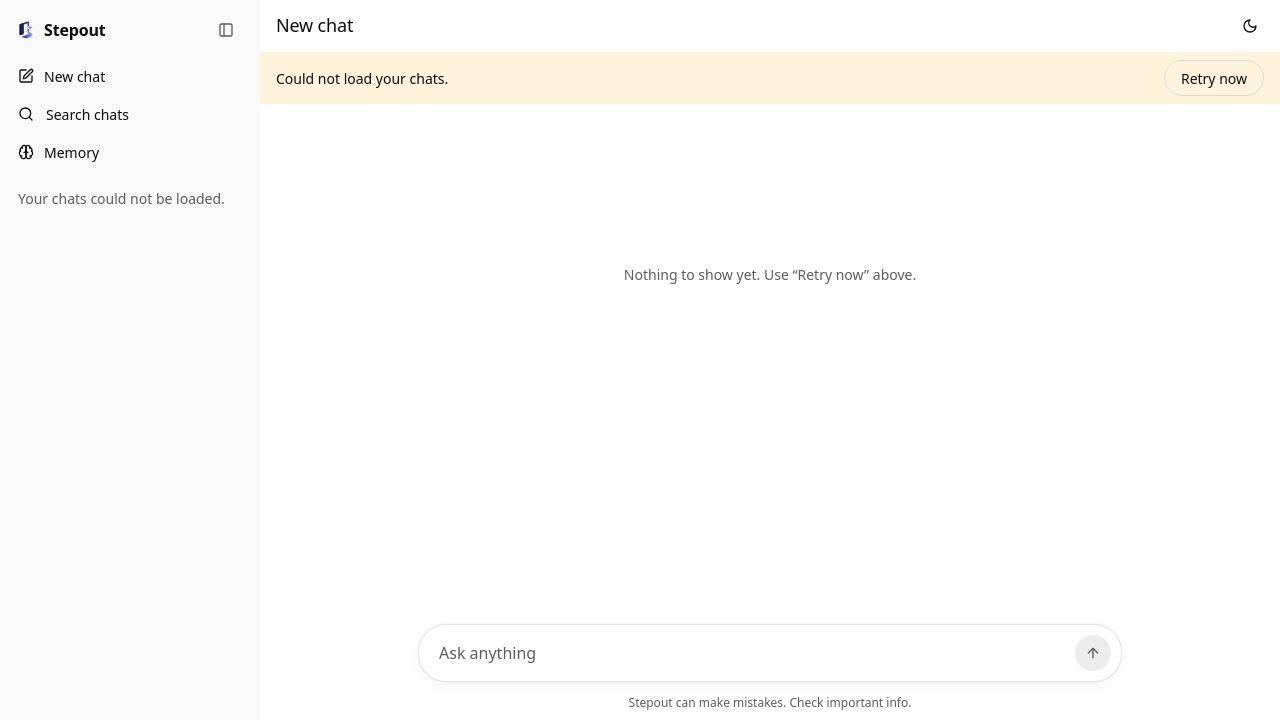
when something fails › the chat list: both places say so in words, and Retry now reads it again
Expected: the text "Your chats could not be loaded." is shown, top-left (18, 189), bottom-right (225, 208)
Expected: the text "Nothing to show yet. Use “Retry now” above." is shown, top-left (624, 265), bottom-right (916, 284)
Click the button "Retry now". click: (1214, 78)
box: top-left (1164, 60), bottom-right (1264, 96)
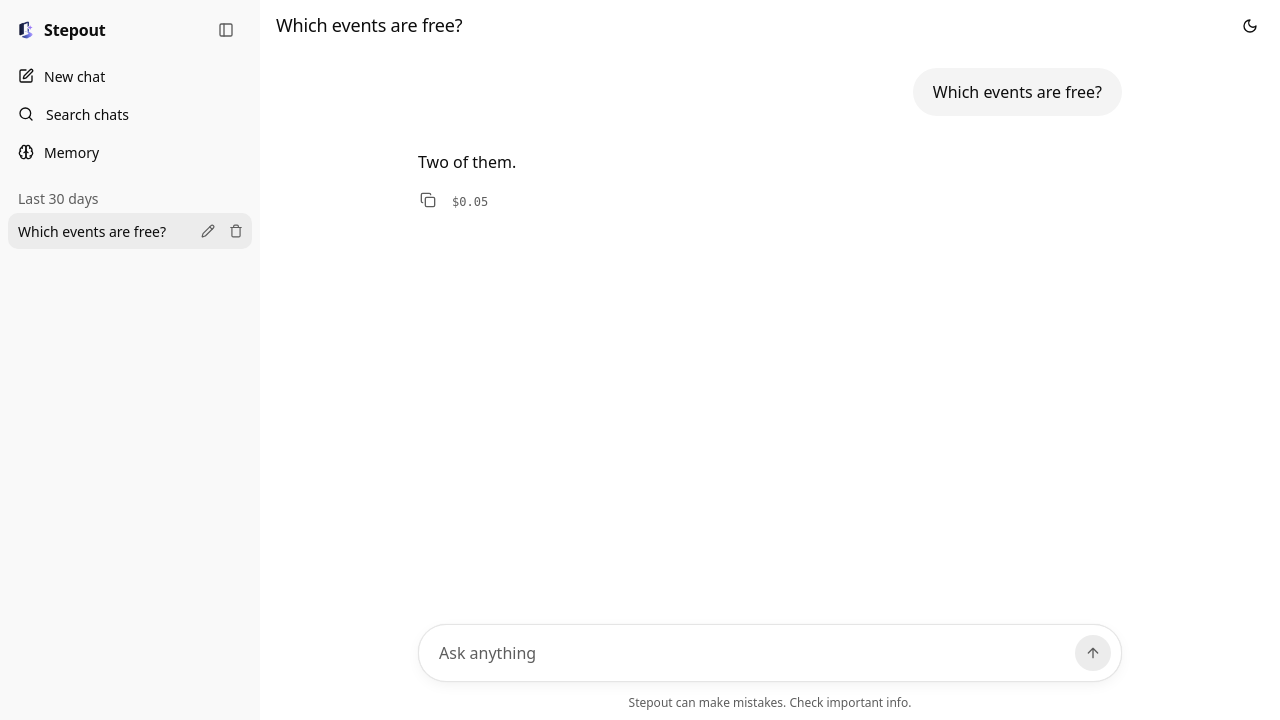
Expected: the text "Two of them." is shown, top-left (418, 151), bottom-right (516, 173)
Expected: the text "could not be loaded" is gone
